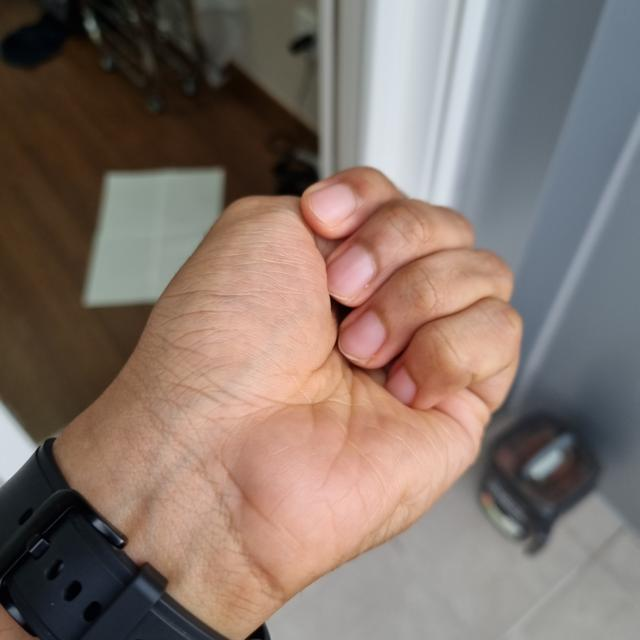Rock: (58, 165, 524, 620)
